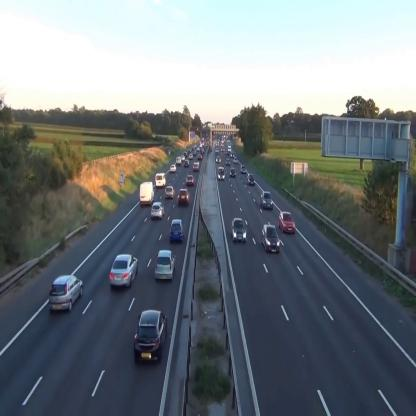car: (134, 309, 167, 365), (49, 274, 84, 312), (110, 254, 138, 288), (154, 249, 176, 280), (262, 224, 280, 253), (278, 212, 296, 234), (169, 220, 185, 244), (231, 218, 247, 241), (151, 202, 164, 220), (261, 191, 273, 210), (178, 189, 190, 205), (165, 186, 175, 199), (247, 174, 255, 186)
lorry: (140, 181, 154, 206), (156, 172, 166, 188)
